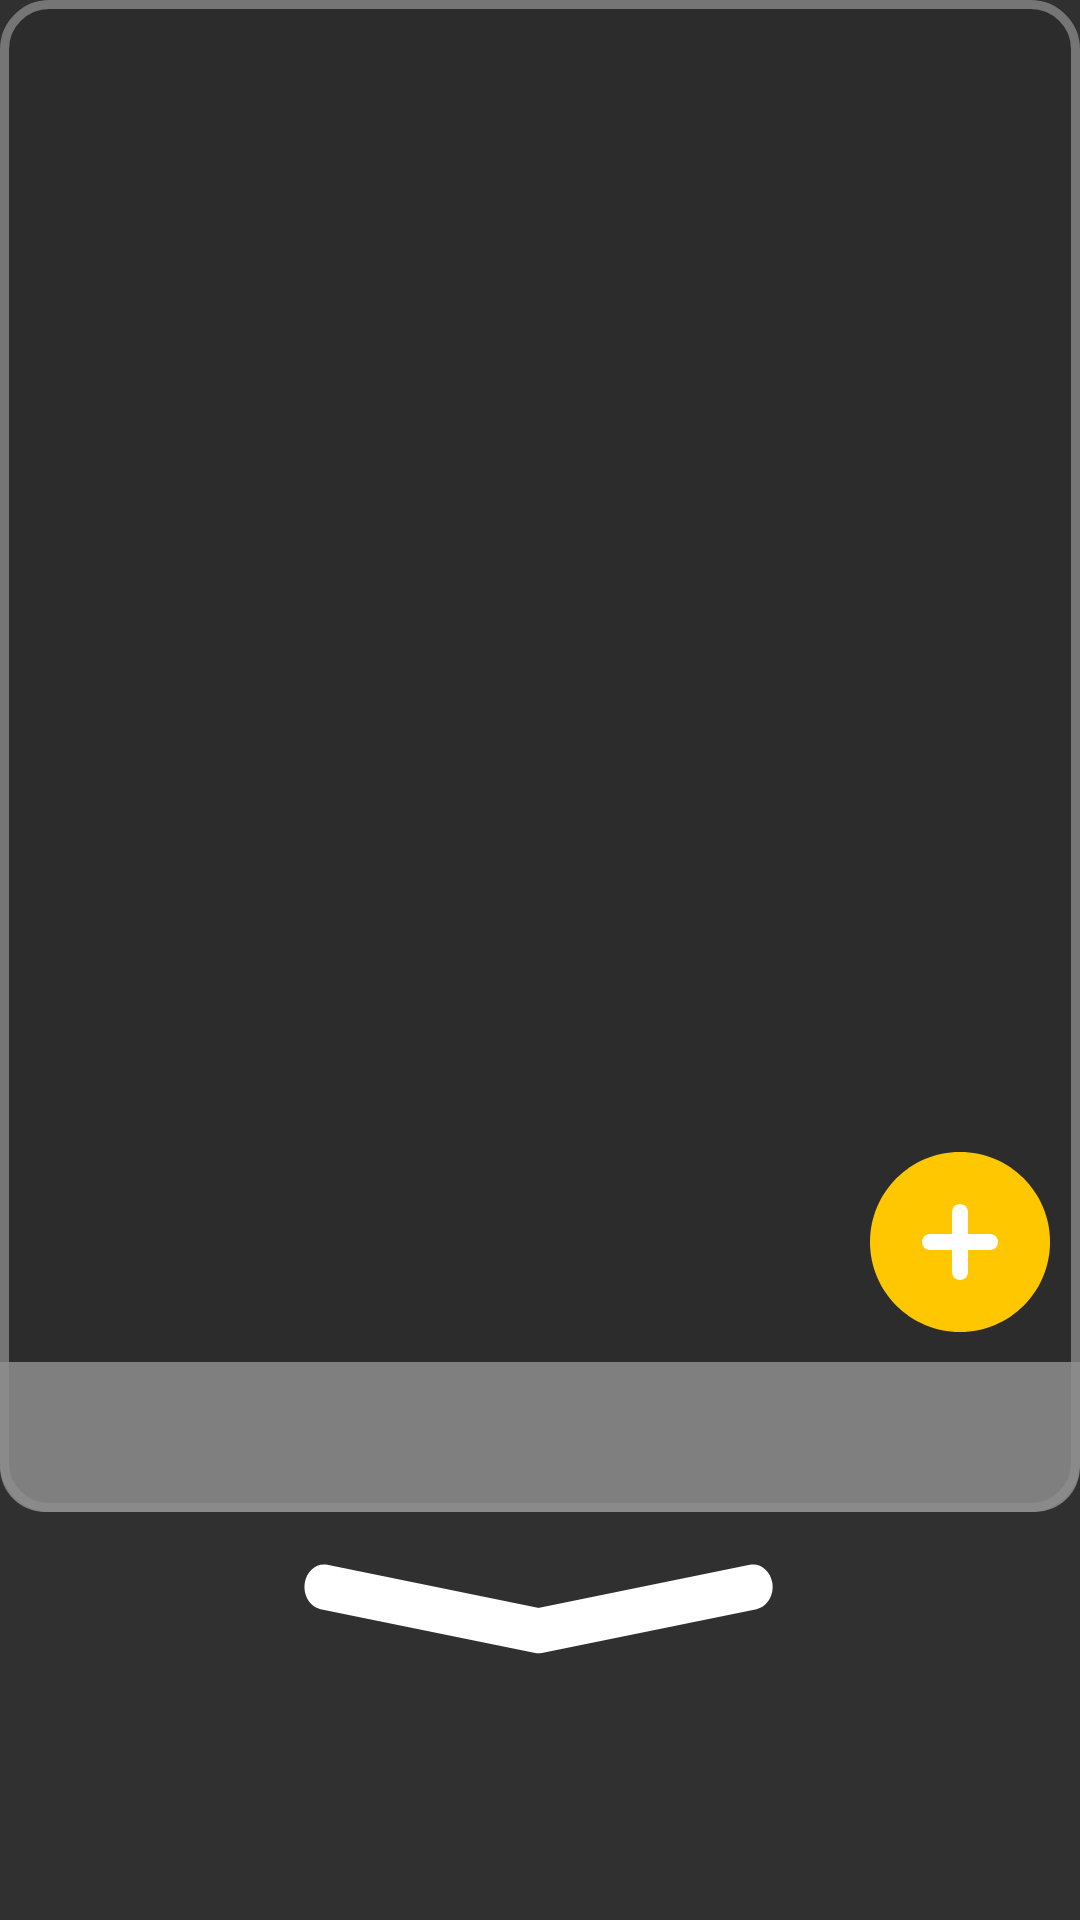

Icons on this 1080 × 1920 Android screen, each with the point to tap as (x,y):
add: (960,1242)
